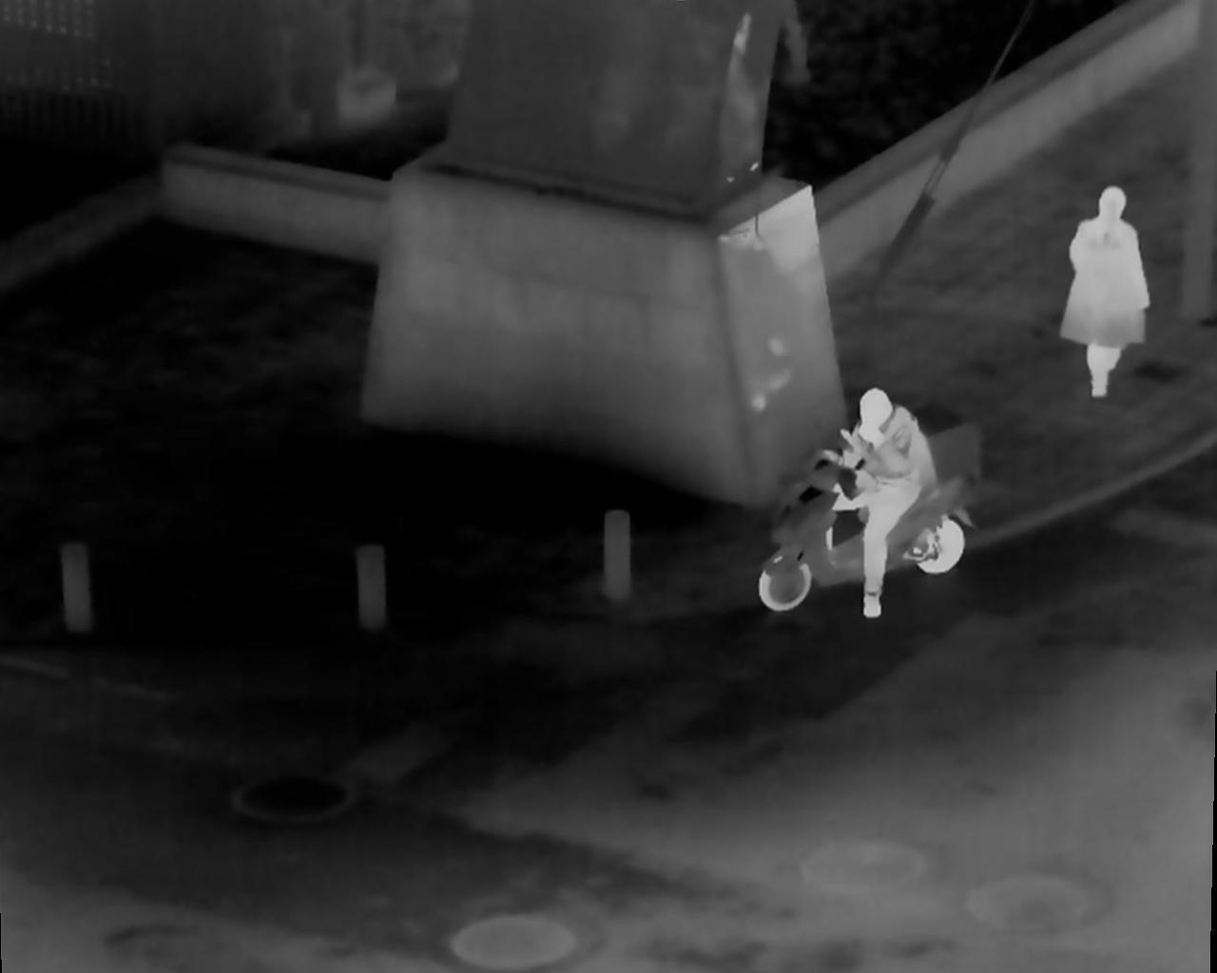person: (834, 391, 945, 631), (1059, 188, 1155, 408)
